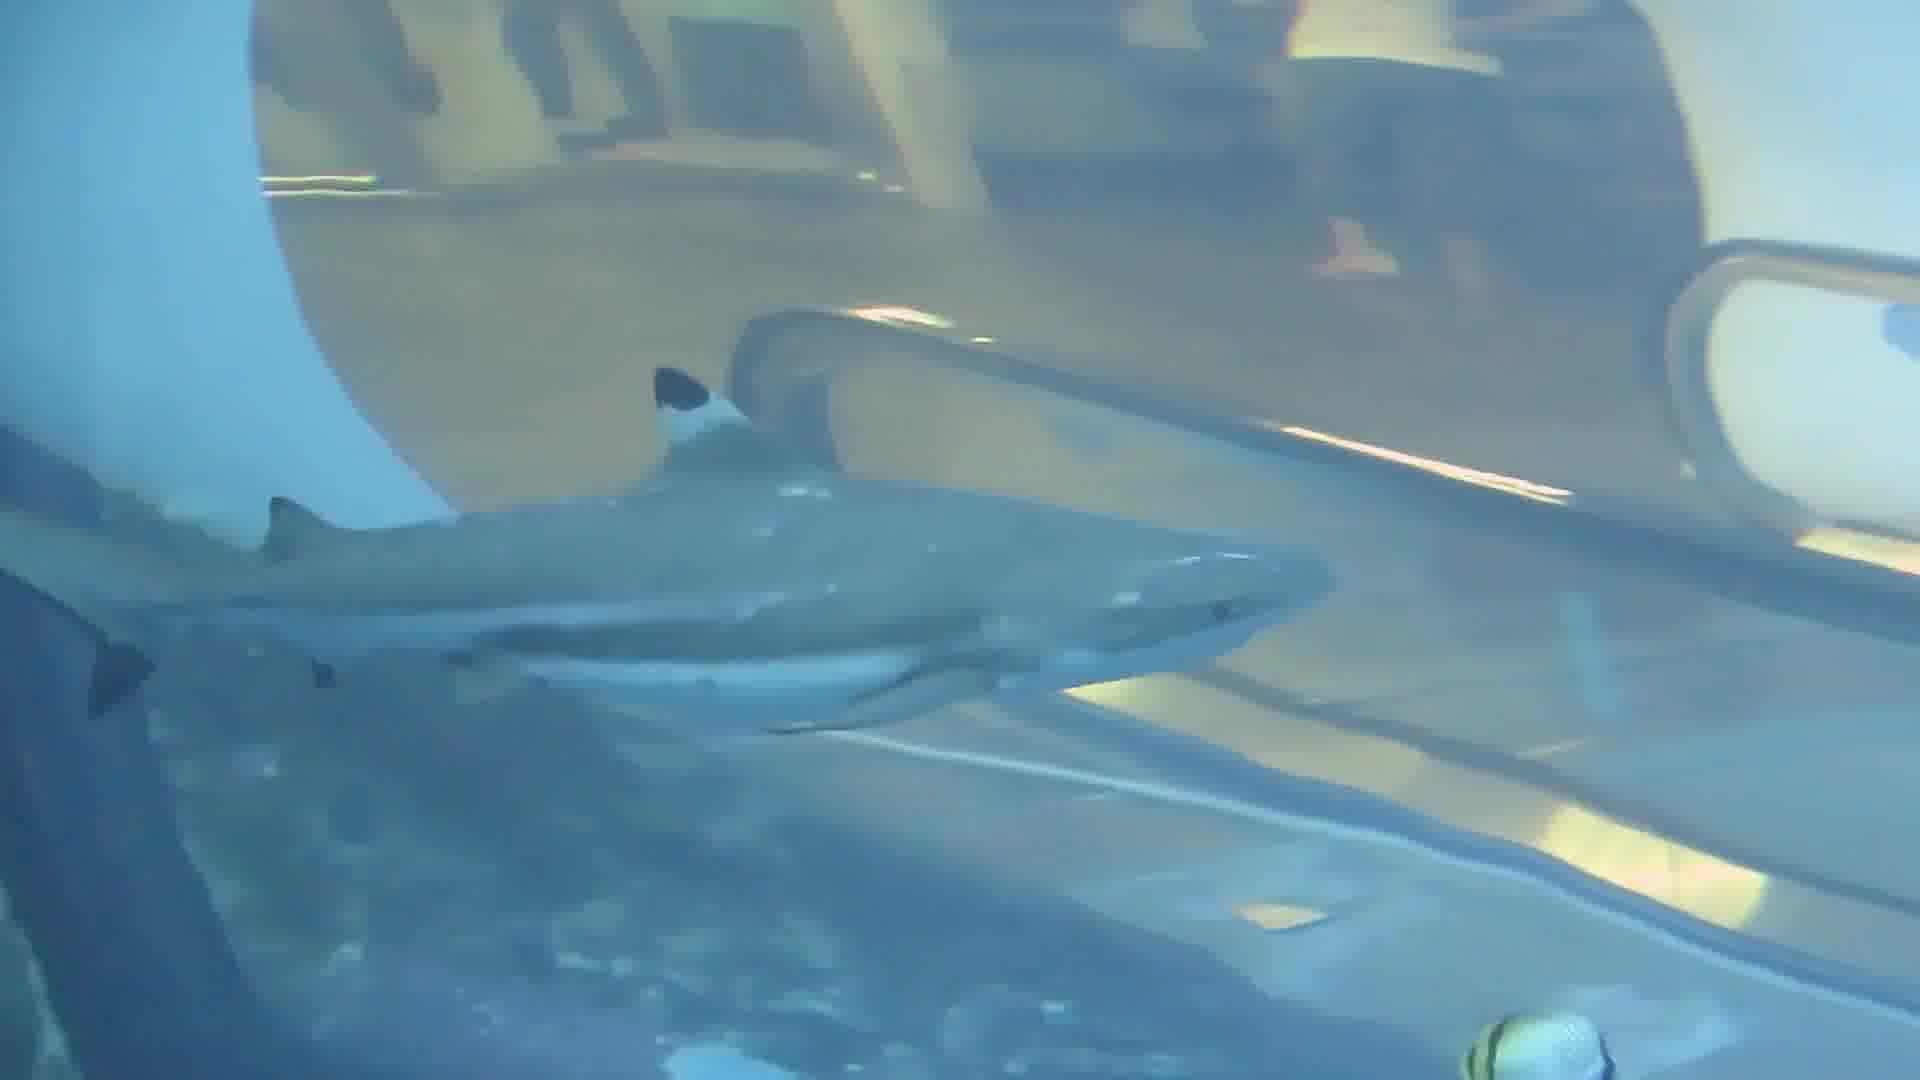Carcharhinus melanopterus: (1, 306, 1378, 767)
